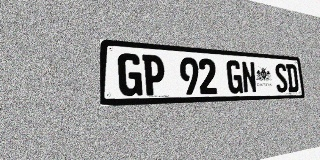2: (198, 58, 217, 94)
9: (180, 57, 200, 95)
D: (286, 64, 299, 92)
G: (118, 53, 143, 96), (226, 60, 243, 94)
N: (241, 61, 257, 93)
P: (142, 54, 165, 96)
S: (274, 63, 288, 92)
